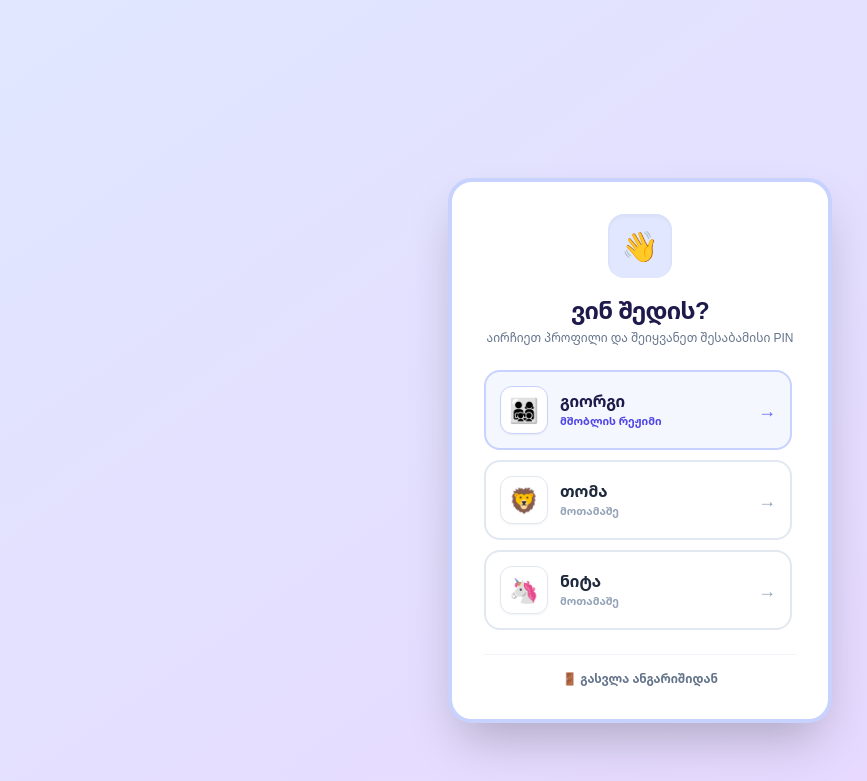
Test: PinGate Component — Two-Stage Identity-First Flow › COMMIT 2: deriveParentPinStatus fail-closed semantics & Parent NULL PIN Setup › renders setup screen (not "არასწორი PIN") when parent row exists with pin_hash: null or empty string
Step 1. Click the text "გიორგი" → (593, 401), box x1=560 y1=390 x2=625 y2=412
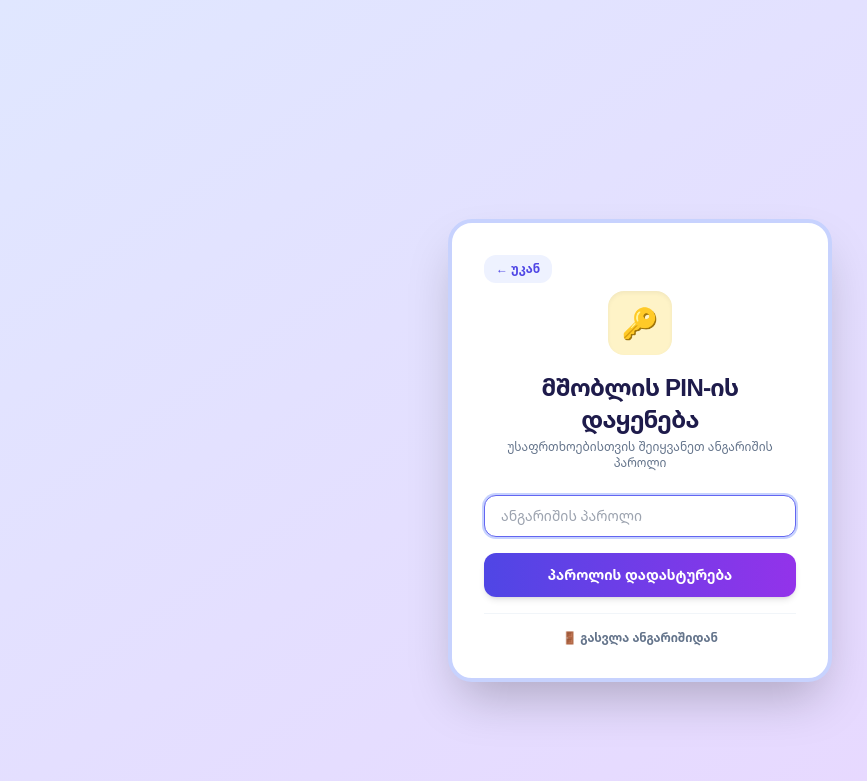
Expected: the heading "მშობლის PIN-ის დაყენება" is shown, x1=542 y1=370 x2=738 y2=434
Expected: the password field with placeholder "ანგარიშის პაროლი" is shown, x1=484 y1=494 x2=796 y2=536
